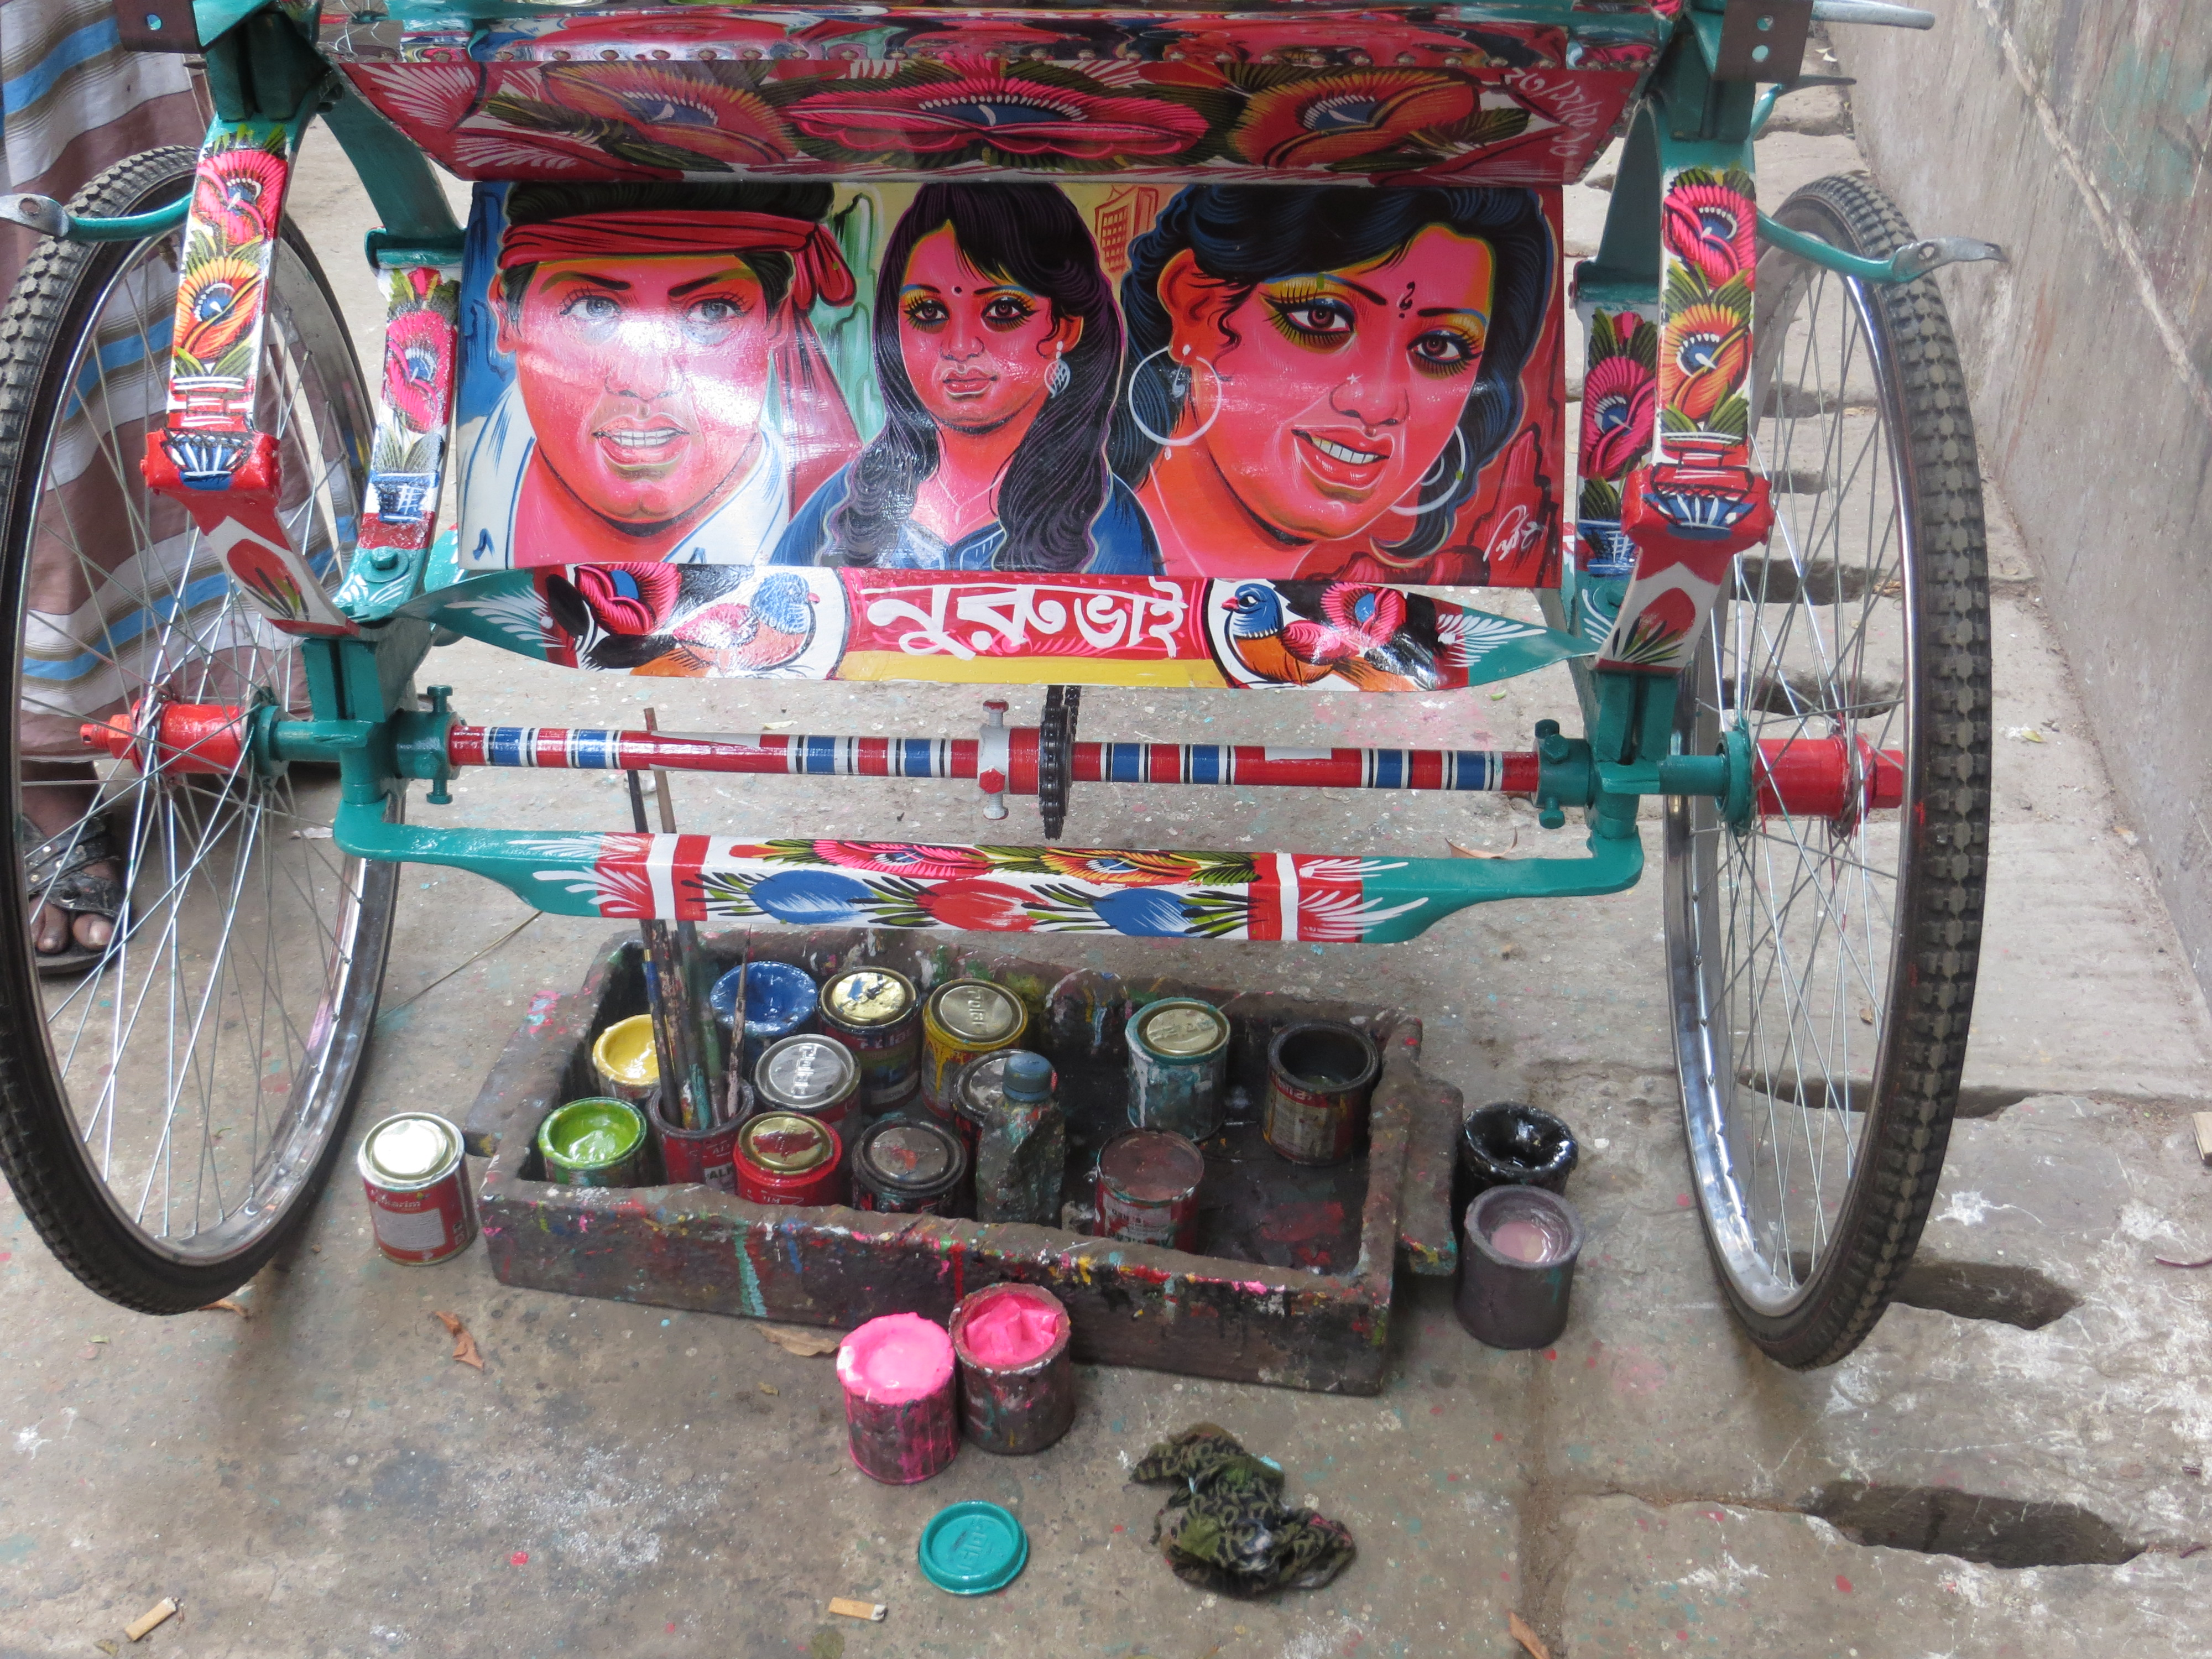Rickshaw: (2, 10, 1965, 1394)
